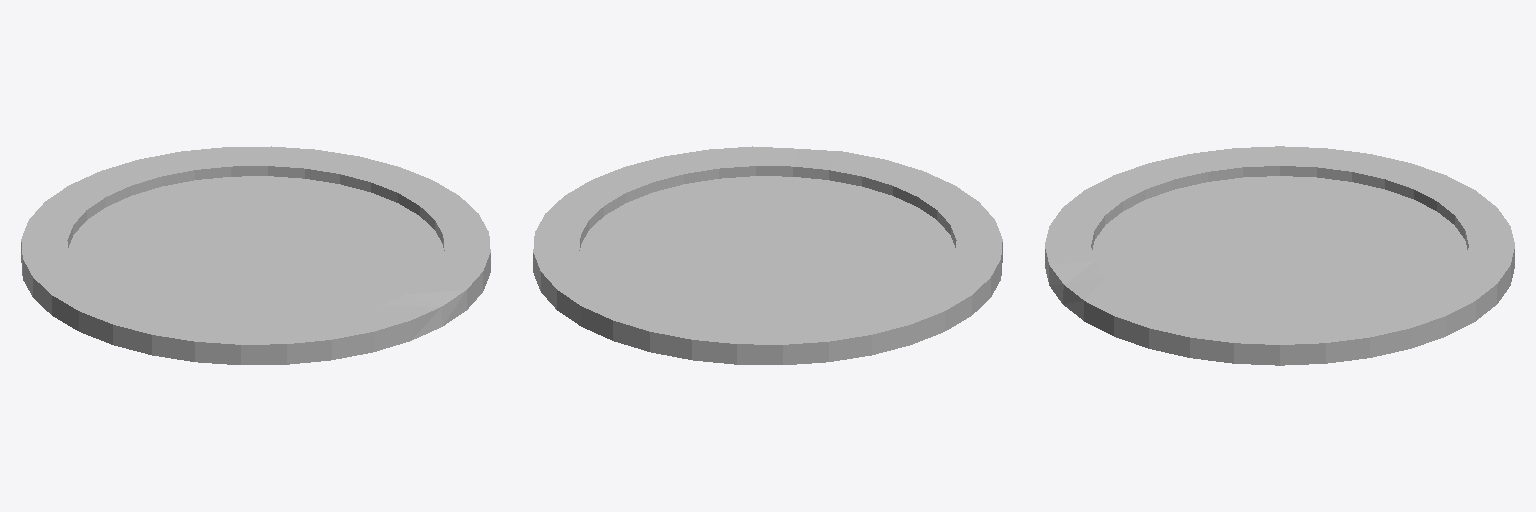
File: Ficha poker.obj
3 views of the same model, side by side, from view 1: azimuth 30°, elevation 25°; view 2: azimuth 150°, elevation 25°; view 3: azimuth 270°, elevation 25° (orthographic).
Visible parts, largest first — view 1: Cylinder; view 2: Cylinder; view 3: Cylinder.
Boxes of the visible parts, x1,y1,x2,y2 form: Cylinder: [21, 146, 490, 364]; Cylinder: [533, 146, 1002, 364]; Cylinder: [1045, 146, 1514, 365].
Bounding box in the file's own units: 2 × 0.0967 × 2.